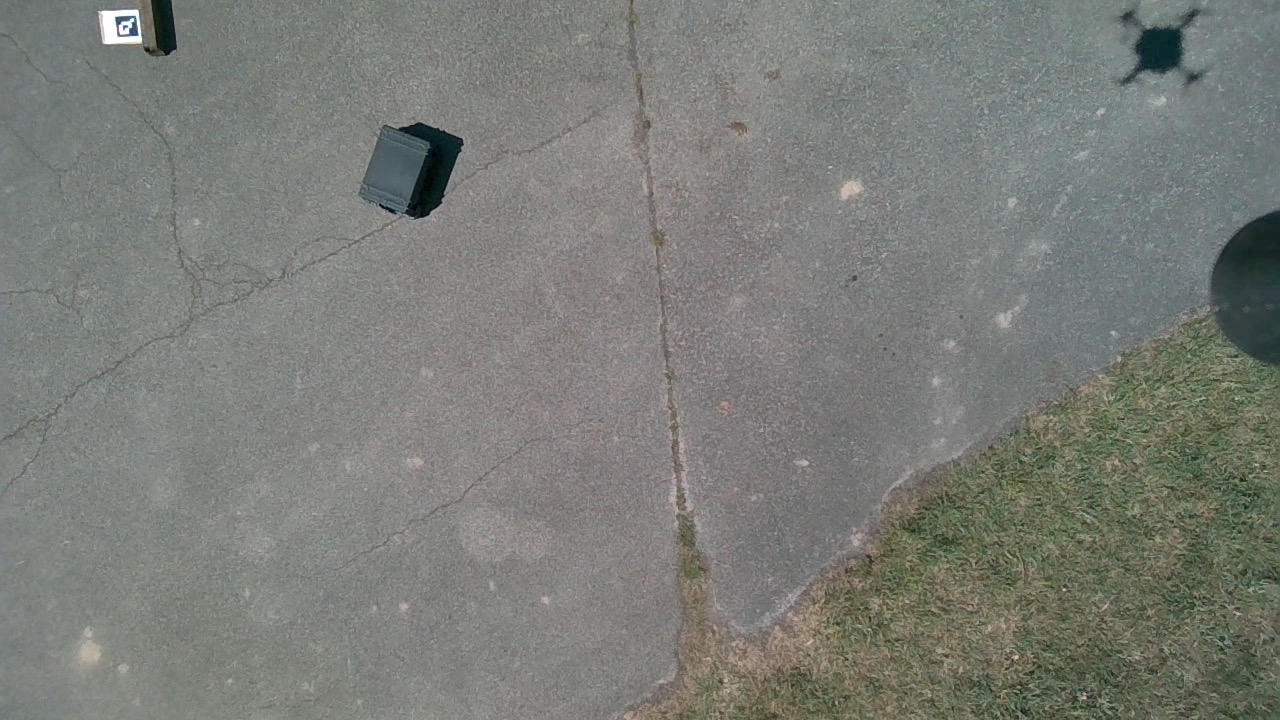rako: (360, 123, 463, 218)
